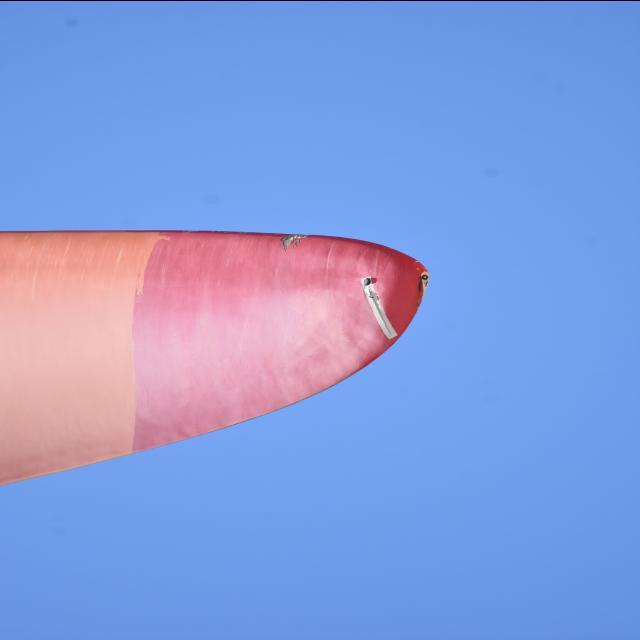Coating_defects: (281, 232, 311, 257), (417, 265, 432, 307)
Crack: (361, 288, 395, 339)
